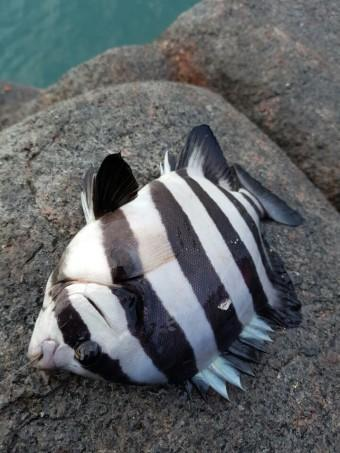fish: (28, 125, 301, 398)
